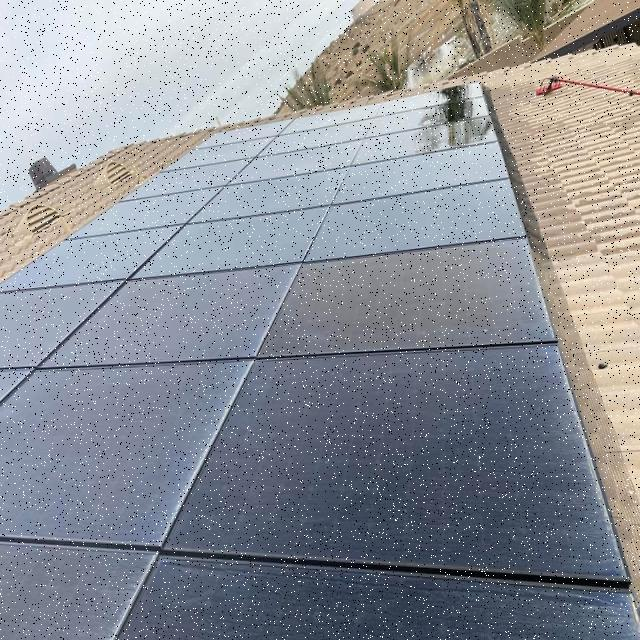dusty: (261, 230, 551, 353)
